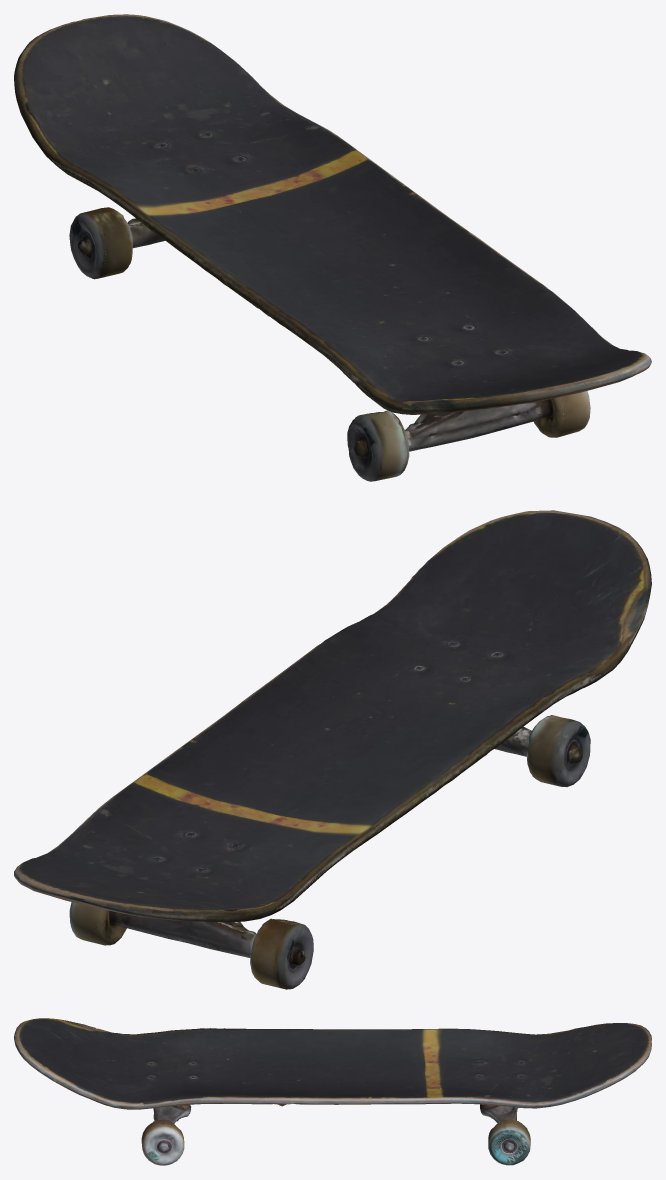
Rendered from board-transformed.glb.
The picture shows the model from 3 angles, top to bottom: view 1: azimuth 30°, elevation 25°; view 2: azimuth 150°, elevation 25°; view 3: azimuth 270°, elevation 25°; orthographic projection. The views are drawn at different scales.
Visible parts, largest first — view 1: board; view 2: board; view 3: board.
Boxes of the visible parts, bbox=[...] form: board: bbox=[14, 14, 651, 481]; board: bbox=[14, 510, 651, 989]; board: bbox=[14, 1018, 651, 1165].
Size of what is drawn, in the model's own units: 0.529 by 0.3444 by 2.
Materials: 1 (1 with a texture image).
